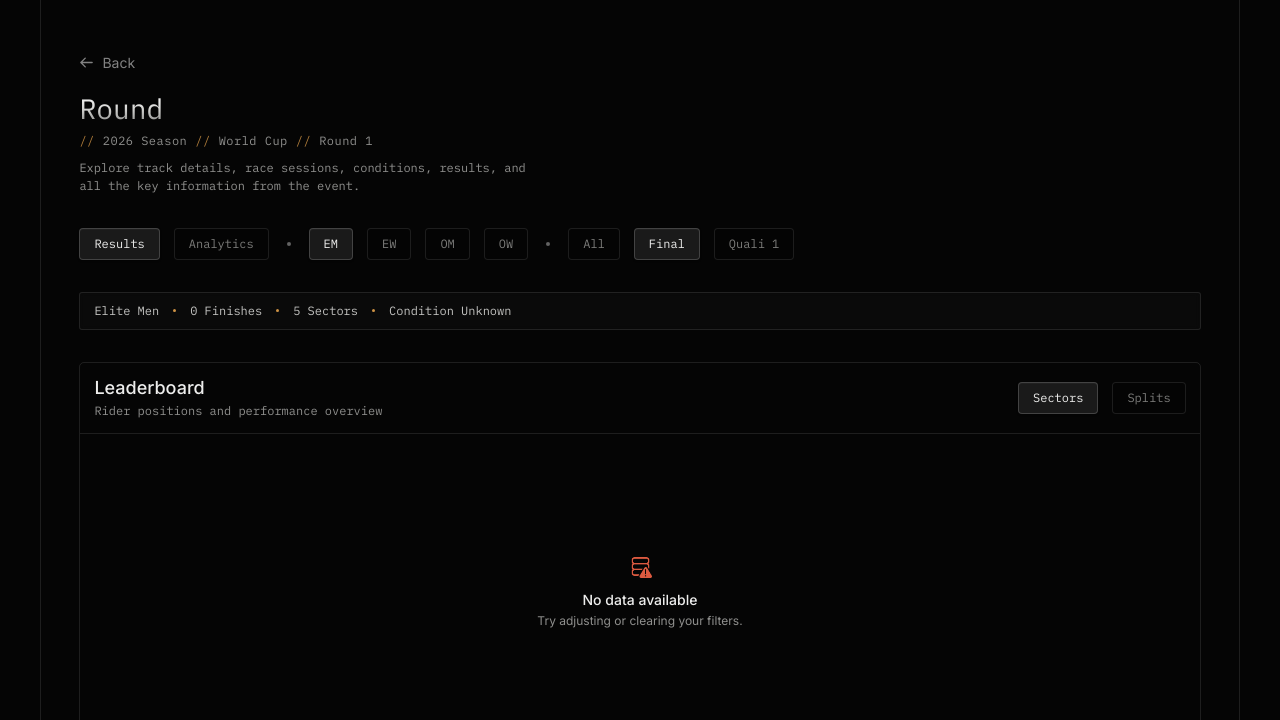
preserves the selected session when changing category (session available: true)
Click the button with aria-label "Qualifying 1" at (754, 244), box [714,228,794,260]
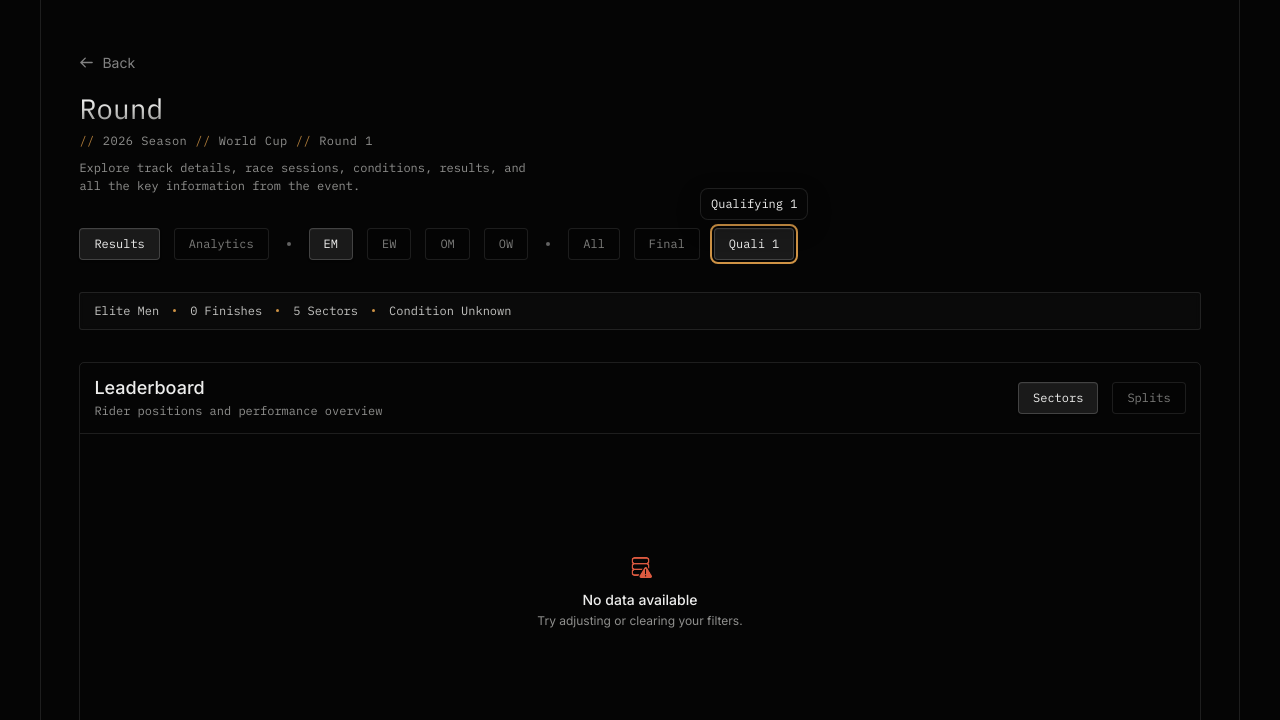
Click the button with aria-label "Elite Women" at (389, 244), box [367,228,411,260]
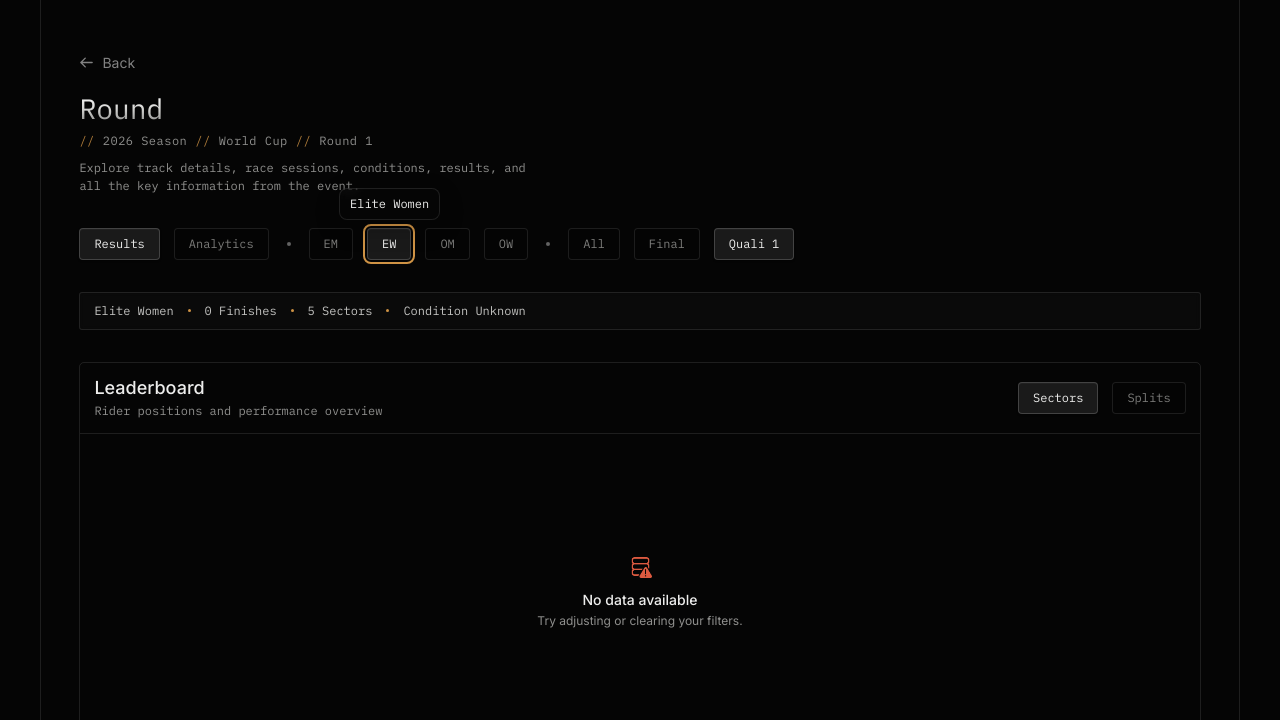
Check: the button with aria-label "Qualifying 1" is pressed, box [714,228,794,260]
Click the button with aria-label "Open Women" at (506, 244), box [484,228,528,260]
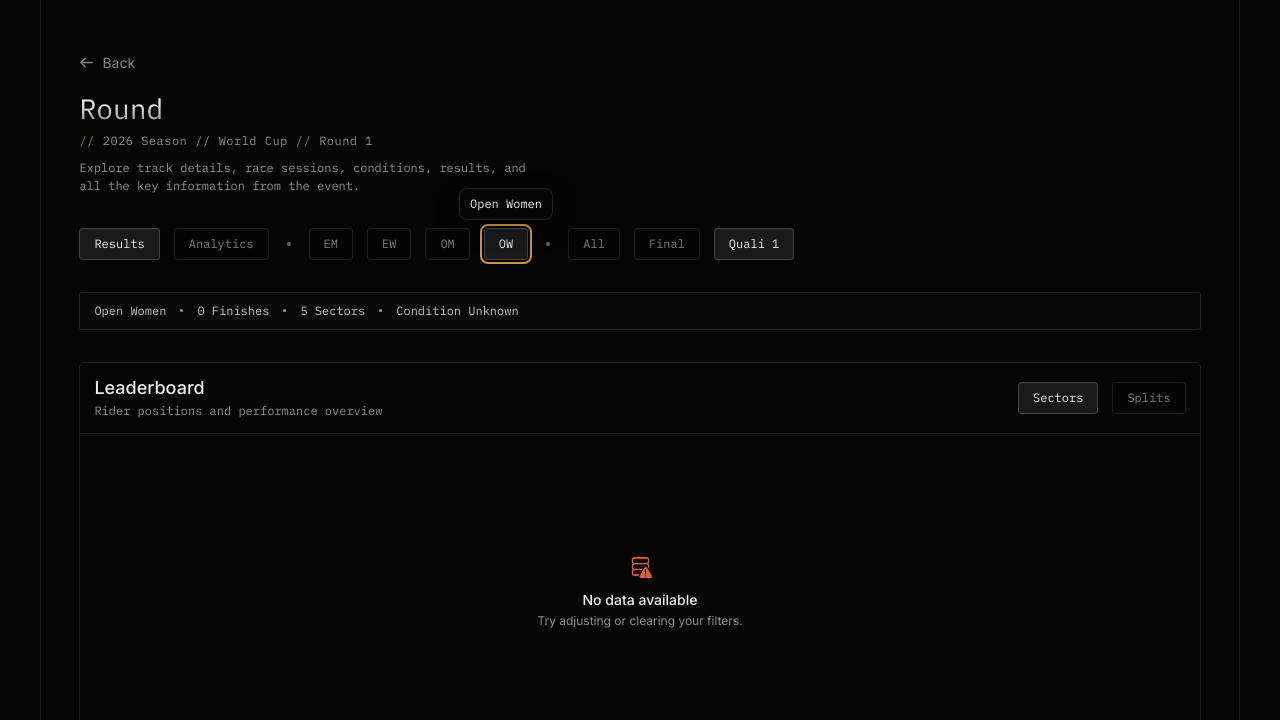
Click the button "Analytics" at (221, 244), box [174,228,269,260]
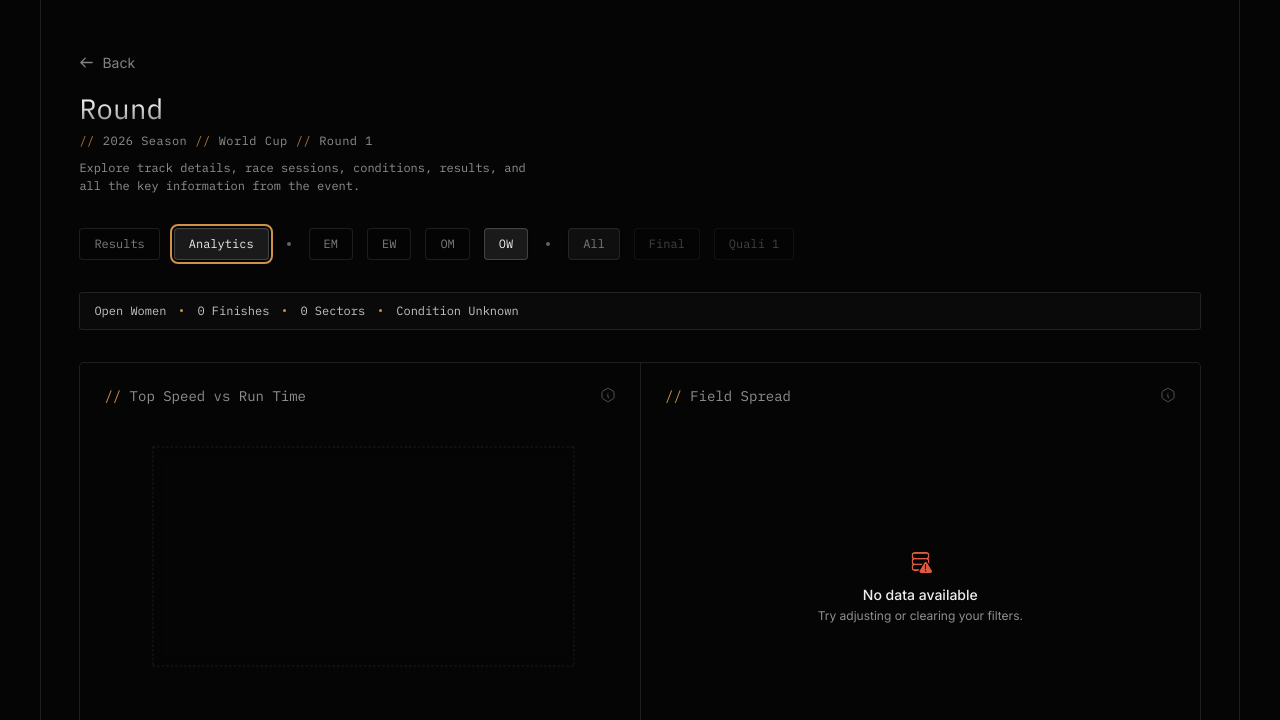
Check: the button with aria-label "Open Men" is shown, box [425,228,470,260]
Check: the button with aria-label "Open Women" is pressed, box [484,228,528,260]
Click the button "Results" at (120, 244), box [79,228,160,260]
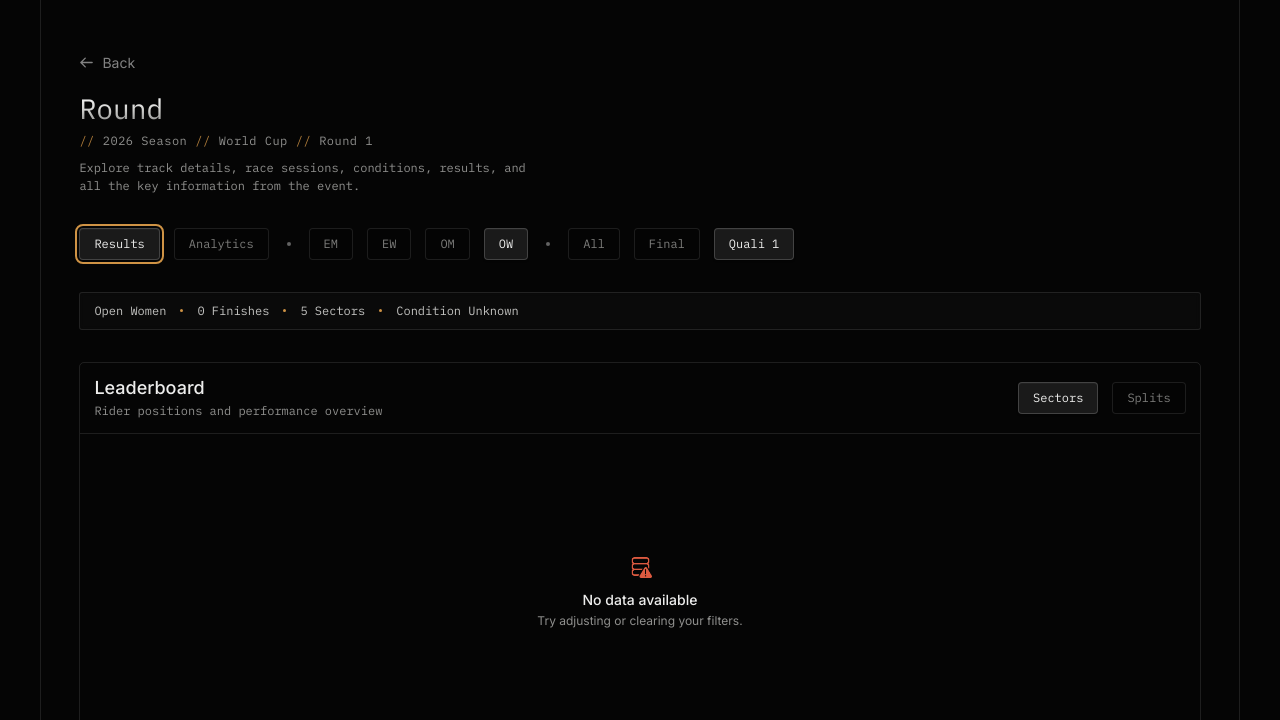
Check: the button with aria-label "Open Women" is pressed, box [484,228,528,260]
